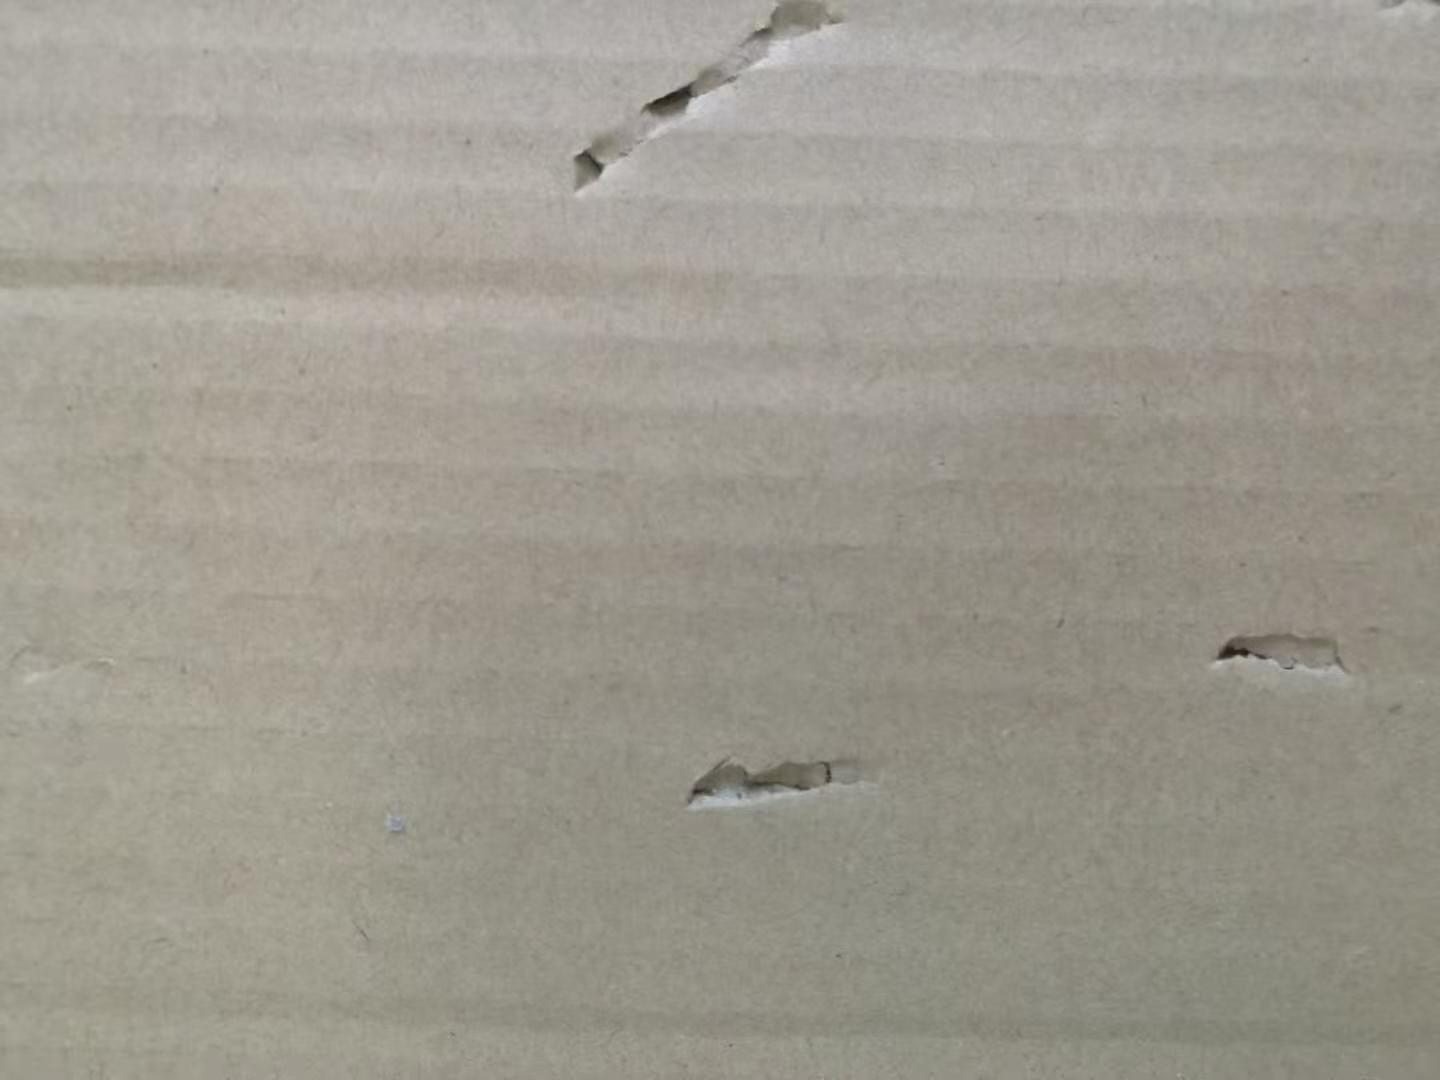defect: (517, 2, 887, 231), (1, 226, 585, 334), (662, 709, 925, 842), (1185, 588, 1373, 712)
